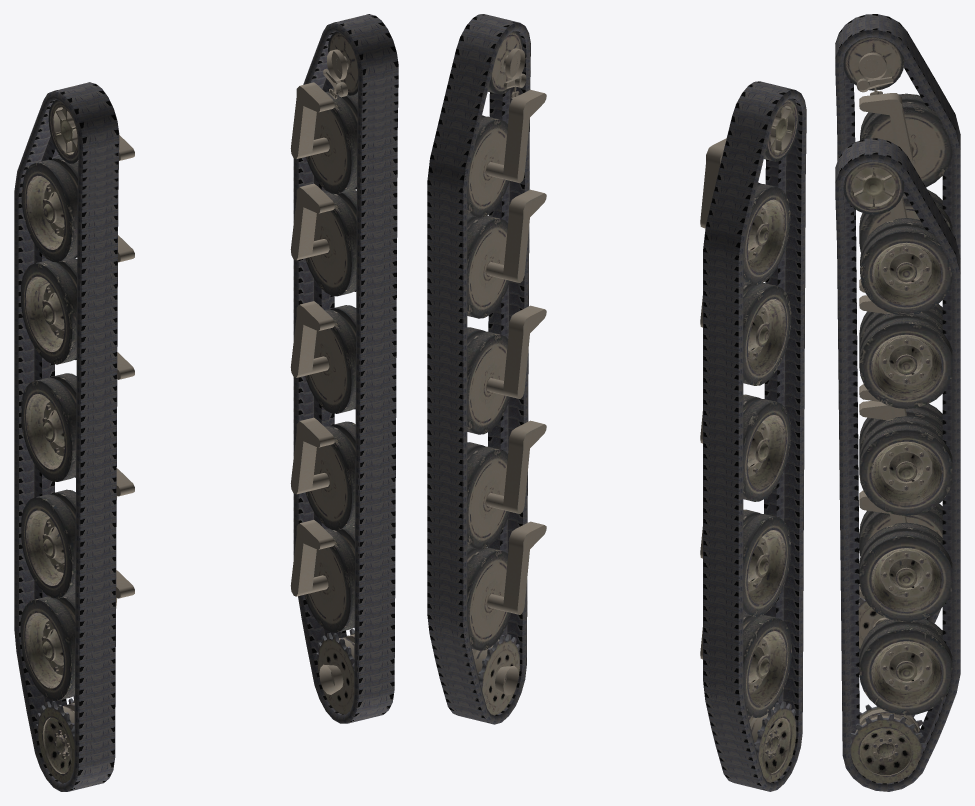
Rendered from Chassis.glb.
The picture shows the model from 3 angles, left to right: view 1: azimuth 30°, elevation 25°; view 2: azimuth 150°, elevation 25°; view 3: azimuth 270°, elevation 25°; orthographic projection. The views are drawn at different scales.
Visible parts, largest first — view 1: set_0_group_0, set_1_group_0, set_3_group_0, set_2_group_0; view 2: set_0_group_0, set_1_group_0, set_3_group_0, set_2_group_0; view 3: set_3_group_0, set_1_group_0, set_2_group_0, set_0_group_0.
Part boxes in pixels (<box>): set_0_group_0: <box>14,82,119,791</box>; set_1_group_0: <box>293,14,398,723</box>; set_3_group_0: <box>290,31,358,714</box>; set_2_group_0: <box>20,100,134,782</box>; set_0_group_0: <box>703,81,806,791</box>; set_1_group_0: <box>427,14,530,724</box>; set_3_group_0: <box>467,31,546,715</box>; set_2_group_0: <box>700,98,798,782</box>; set_3_group_0: <box>843,161,952,783</box>; set_1_group_0: <box>835,138,960,791</box>; set_2_group_0: <box>843,37,952,648</box>; set_0_group_0: <box>835,14,960,657</box>.
Size of the model in its own units: 2.85 by 5.97 by 1.06.
Materials: 4 (4 with a texture image).
